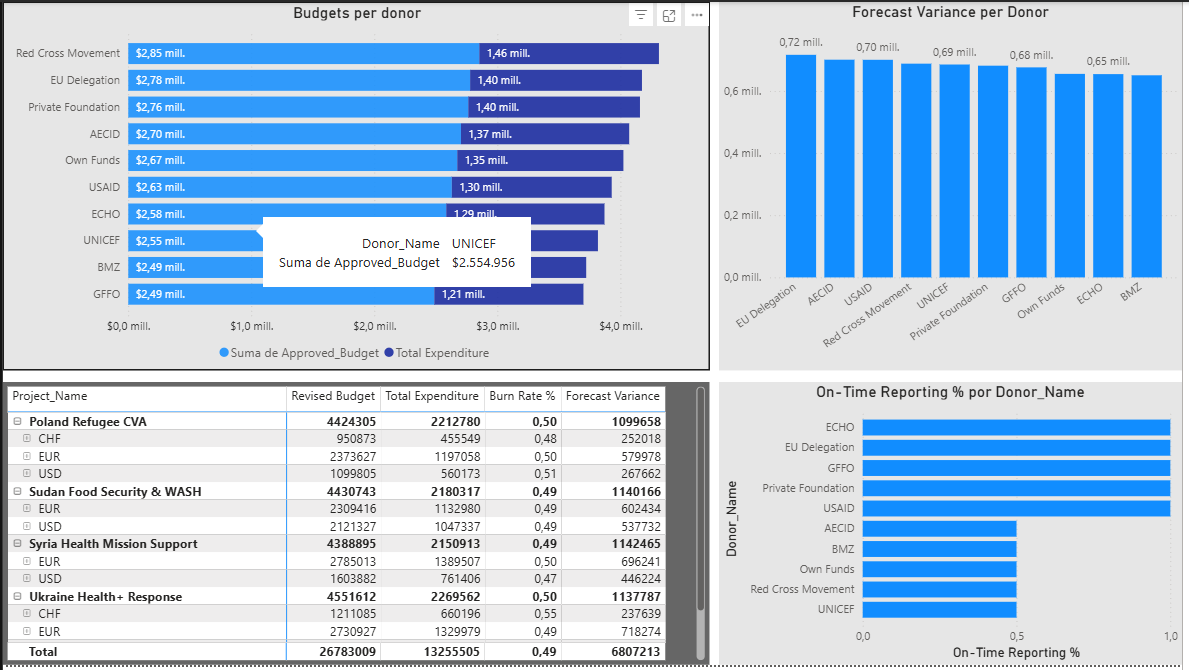

The dashboard page shown, as its layout file describes it:
{"tool":"powerbi","page":{"name":"Donors","canvas":[1280,720],"ordinal":2},"visuals":[{"type":"barChart","title":"Budgets per donor","fields":{"Y":["Sum(humanitarian_finance_fact.Approved_Budget)","humanitarian_finance_fact.Total Expenditure"],"Category":["humanitarian_finance_fact.Donor_Name"]},"box":[0,0,767.1,400],"z":0},{"type":"pivotTable","fields":{"Rows":["humanitarian_finance_fact.Project_Name","humanitarian_finance_fact.Currency","humanitarian_finance_fact.Grant_ID","humanitarian_finance_fact.Reporting_Status"],"Values":["humanitarian_finance_fact.Revised Budget","humanitarian_finance_fact.Total Expenditure","humanitarian_finance_fact.Burn Rate %","humanitarian_finance_fact.Forecast Variance"]},"box":[0,412.9,767.1,307.1],"z":1000},{"type":"clusteredColumnChart","title":"Forecast Variance per Donor","fields":{"Category":["dim_donors.Donor_Name"],"Y":["humanitarian_finance_fact.Forecast Variance"]},"box":[777,0,503,400],"z":1001},{"type":"barChart","fields":{"Y":["humanitarian_finance_fact.On-Time Reporting %"],"Category":["humanitarian_finance_fact.Donor_Name"]},"box":[777,413,503,307],"z":1002}]}

Visuals, with their boxes in screenshot pixels (x1, y1, x2, y2), scaled from the page's 1280x720 canvas onto the 1189x670 screenshot:
"Budgets per donor" barChart: bbox=[0, 0, 713, 372]
pivotTable - humanitarian_finance_fact.Project_Name x humanitarian_finance_fact.Currency: bbox=[0, 384, 713, 669]
"Forecast Variance per Donor" clusteredColumnChart: bbox=[722, 0, 1188, 372]
barChart - humanitarian_finance_fact.On-Time Reporting % x humanitarian_finance_fact.Donor_Name: bbox=[722, 384, 1188, 669]
